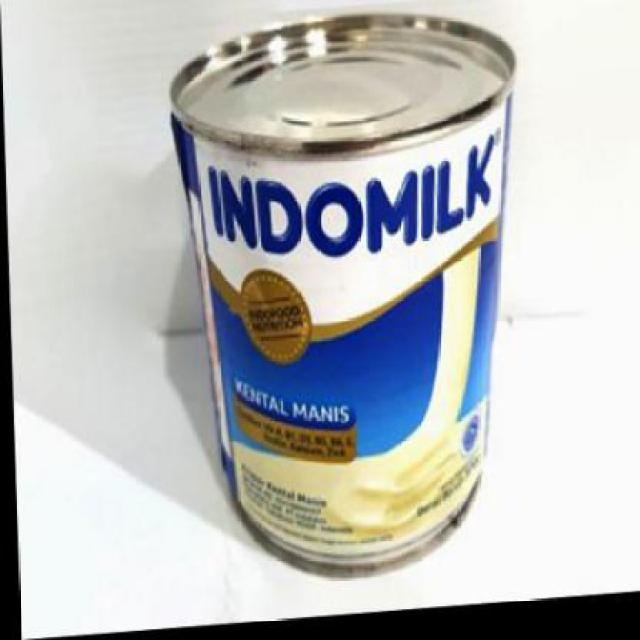Metal: (168, 3, 517, 581)
